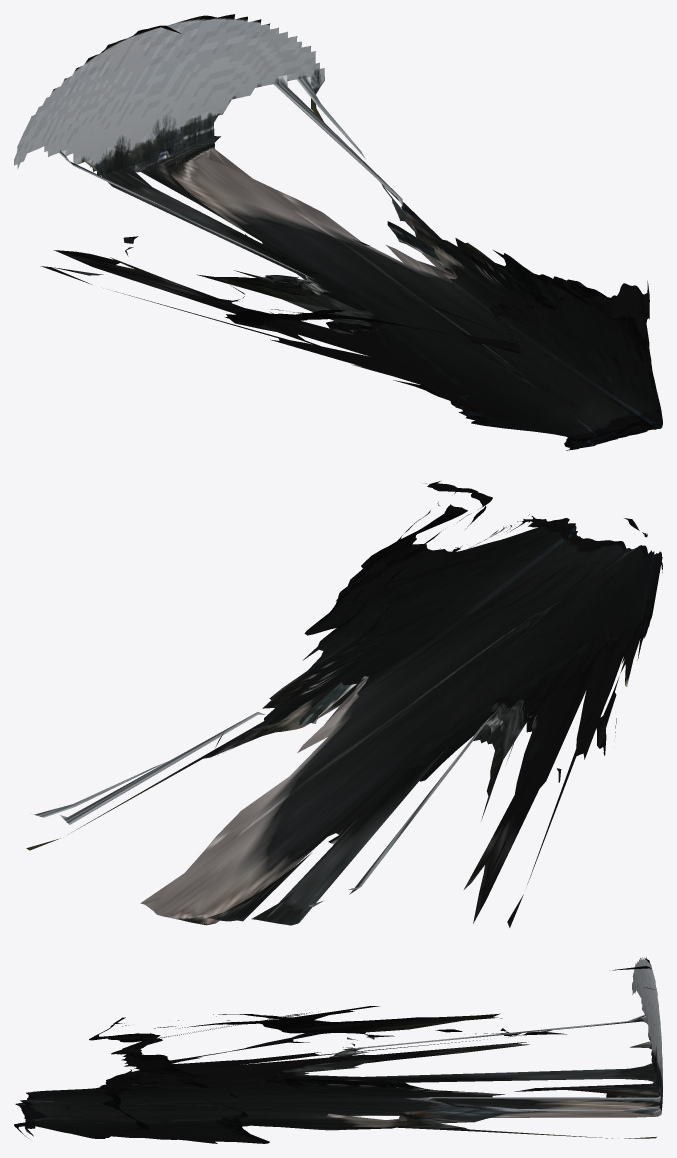
3 renders of one model, top to bottom at view 1: azimuth 30°, elevation 25°; view 2: azimuth 150°, elevation 25°; view 3: azimuth 270°, elevation 25°, orthographic. The views are drawn at different scales.
Visible parts, largest first — view 1: defaultobject; view 2: defaultobject; view 3: defaultobject.
Boxes of the visible parts, left/top/right/bottom form: defaultobject: left=14, top=14, right=662, bottom=450; defaultobject: left=26, top=481, right=662, bottom=927; defaultobject: left=14, top=957, right=662, bottom=1143.
Bounding box in the file's own units: 22.44 × 9.4 × 44.28.
1 material, 1 textured.
